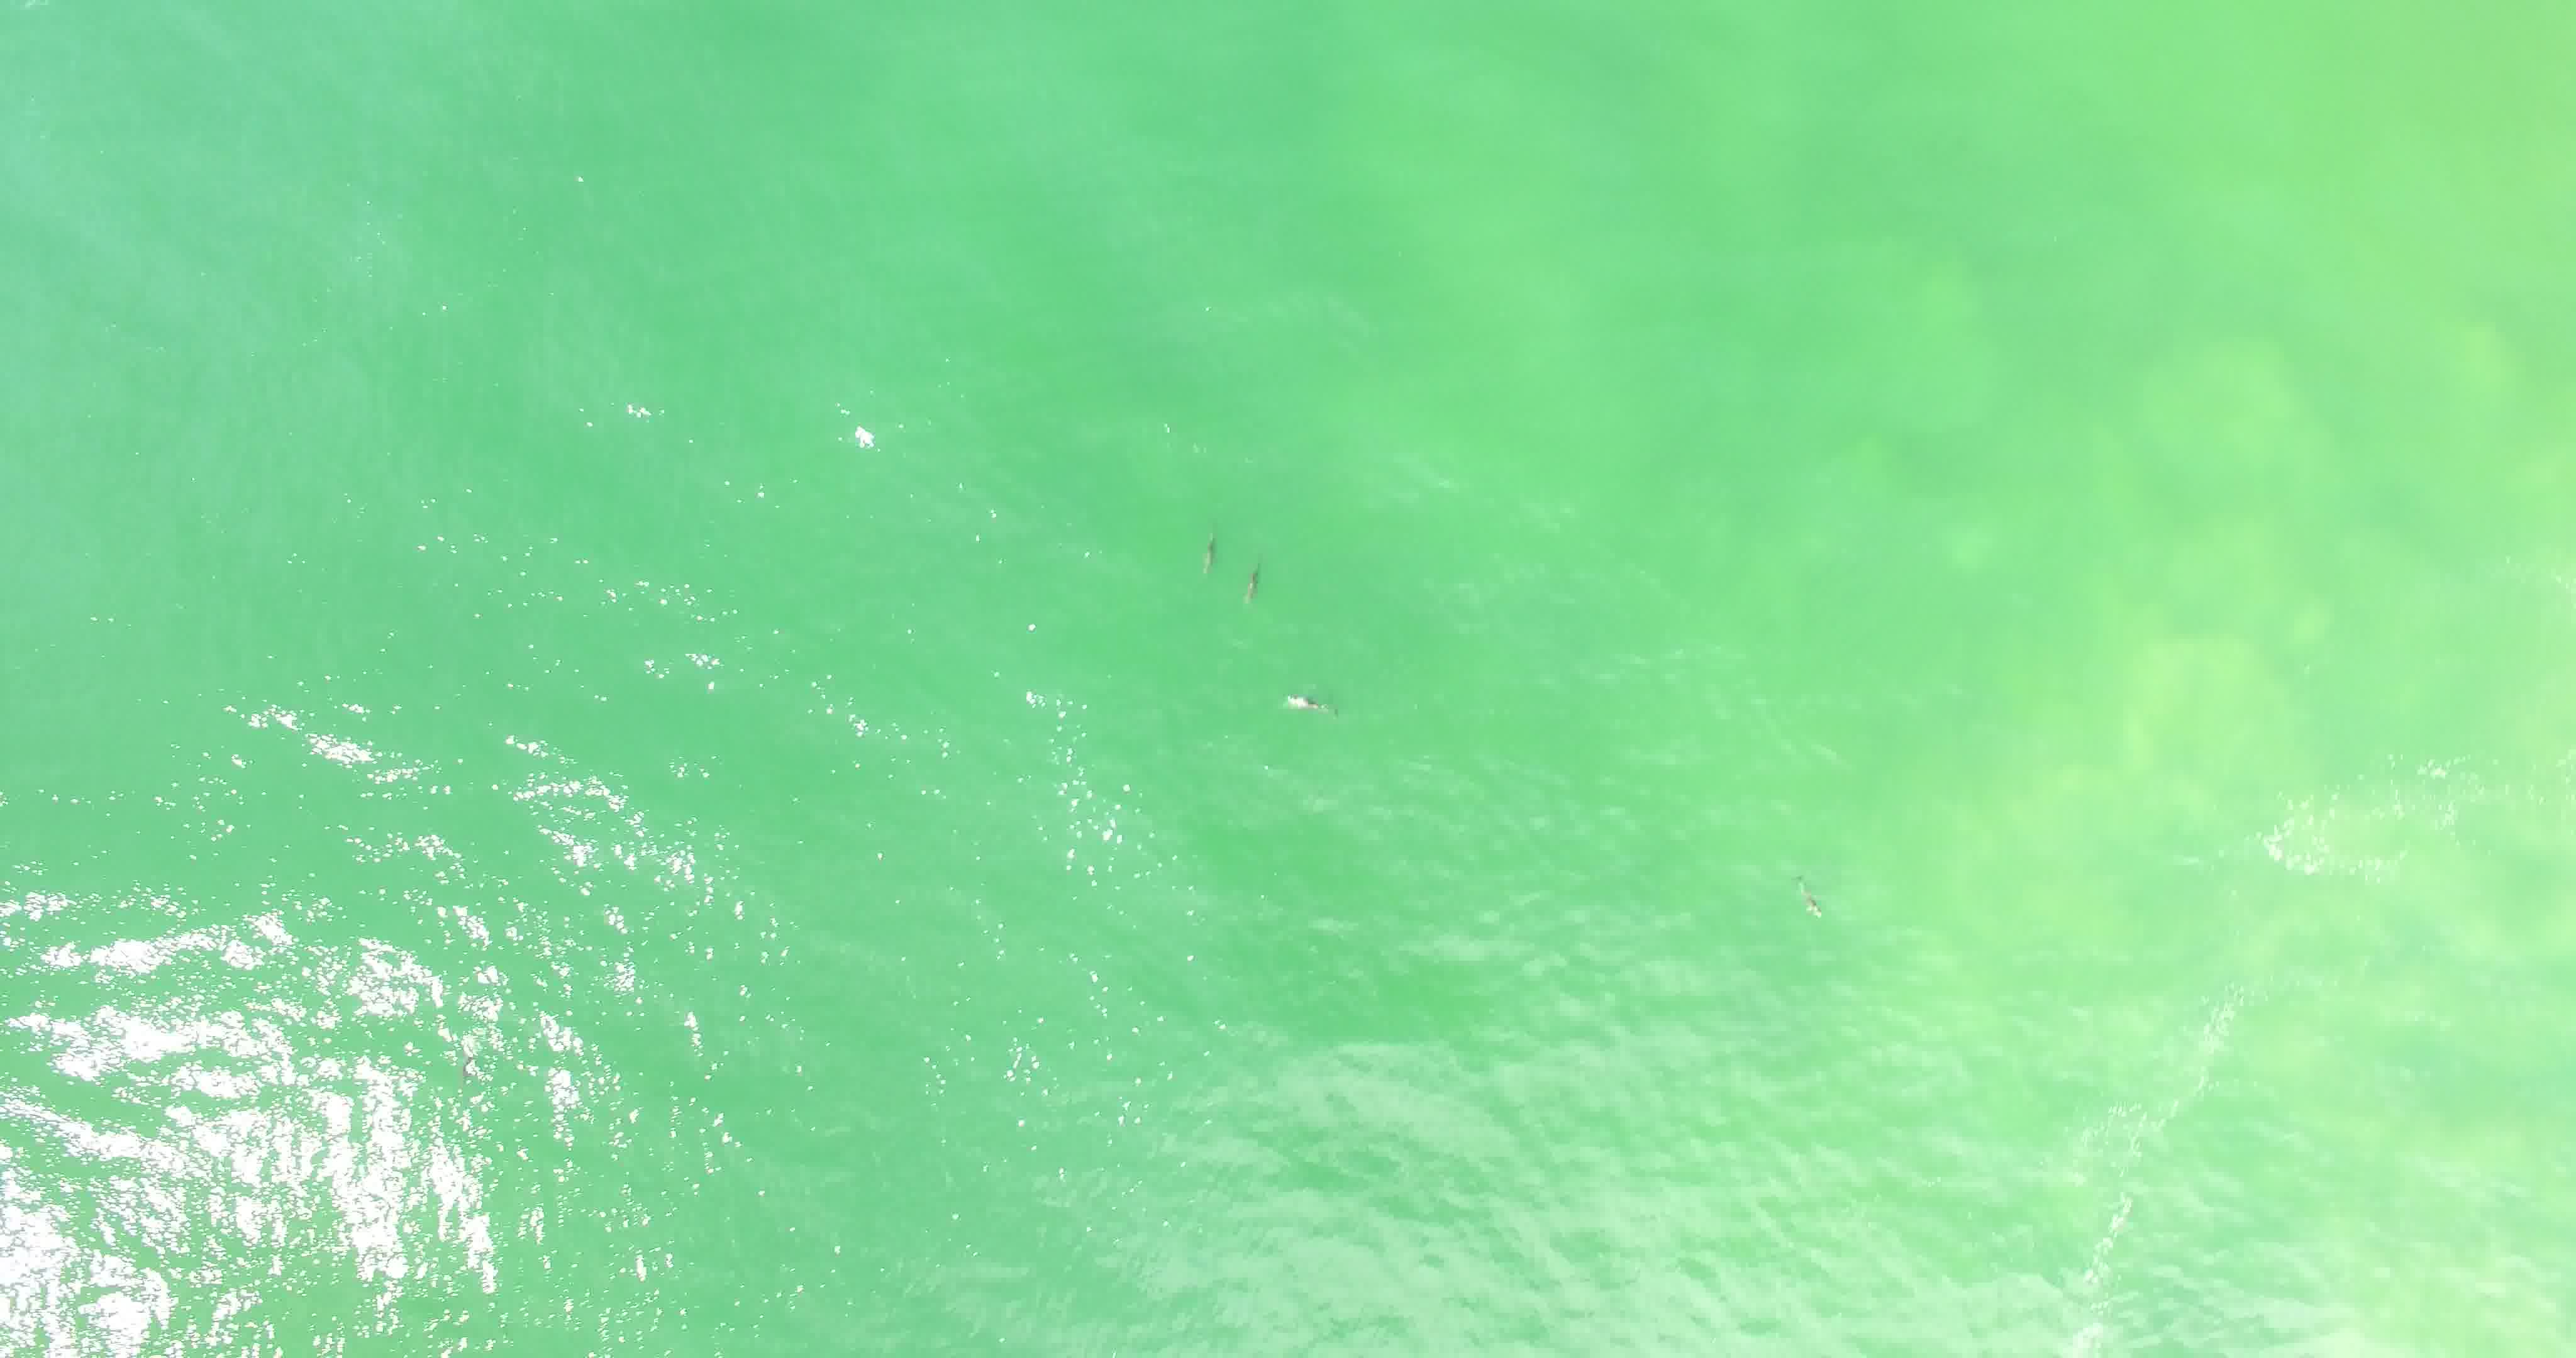dolphin: (1266, 659, 1344, 729), (1774, 864, 1837, 934), (1227, 533, 1273, 613), (1182, 521, 1228, 581)
